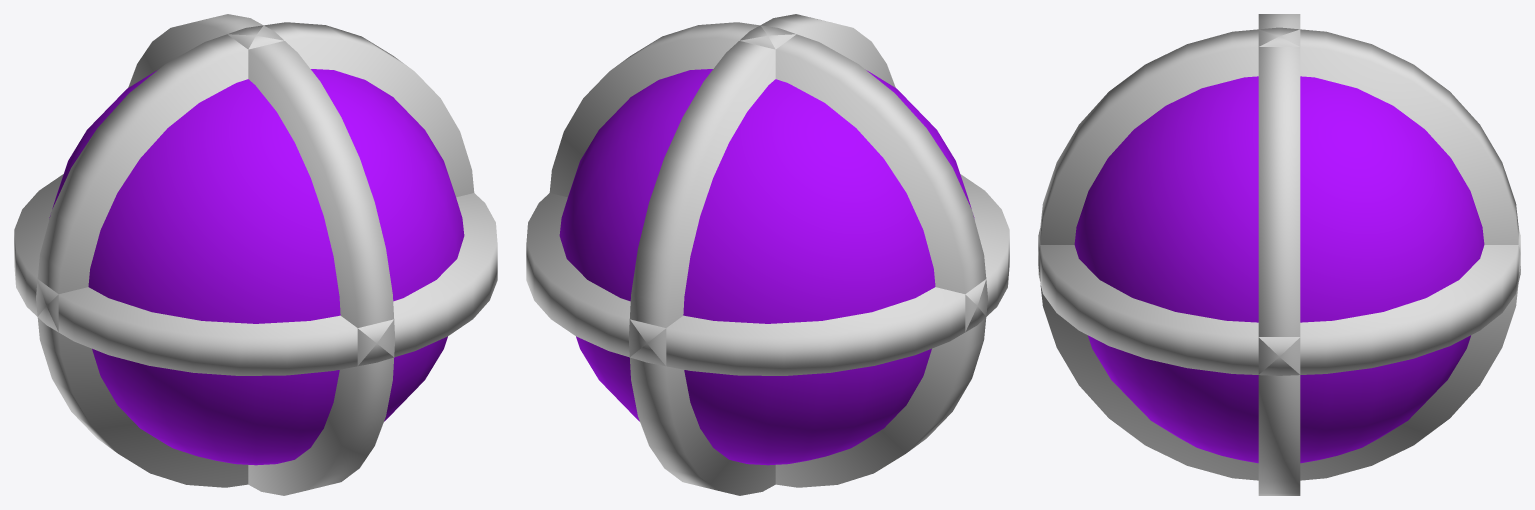
File: Ball-13.dae
3 renders of one model, left to right at view 1: azimuth 30°, elevation 25°; view 2: azimuth 150°, elevation 25°; view 3: azimuth 270°, elevation 25°, orthographic.
Parts seen in each view (by area): view 1: Ball; view 2: Ball; view 3: Ball.
Boxes of the visible parts, left/top/right/bottom form: Ball: left=14, top=14, right=497, bottom=495; Ball: left=526, top=14, right=1009, bottom=495; Ball: left=1038, top=14, right=1520, bottom=495.
Bounding box in the file's own units: 0.046 × 0.046 × 0.046.
